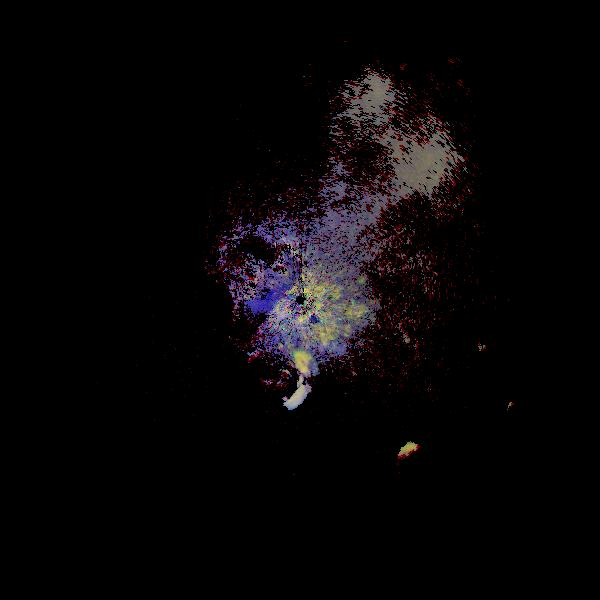roost: (490, 369, 595, 474), (247, 334, 337, 424), (390, 427, 468, 505), (465, 326, 537, 398)
